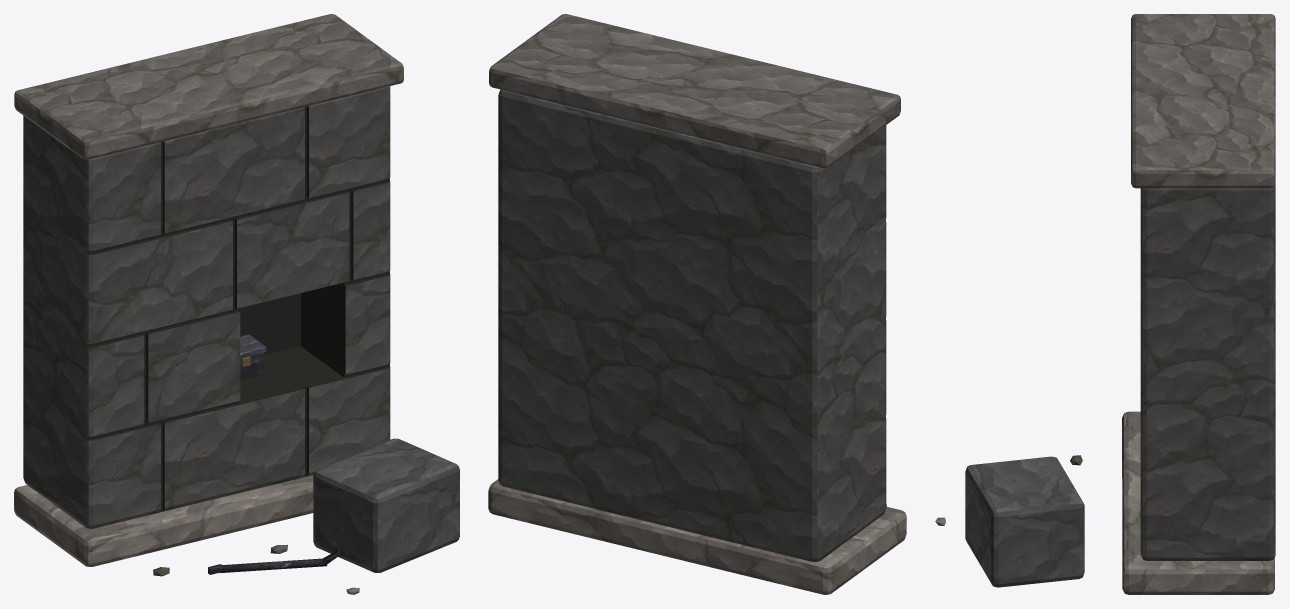
The model's file is bv_coin_niche_found_empty.glb.
3 renders of one model, left to right at view 1: azimuth 30°, elevation 25°; view 2: azimuth 150°, elevation 25°; view 3: azimuth 270°, elevation 25°, orthographic. The views are drawn at different scales.
Parts seen in each view (by area): view 1: model; view 2: model; view 3: model.
Boxes of the visible parts, bbox=[...] form: model: bbox=[14, 14, 459, 594]; model: bbox=[488, 14, 906, 594]; model: bbox=[935, 14, 1275, 594].
Bounding box in the file's own units: 1.17 × 1.47 × 1.06.
7 materials, 6 textured.
